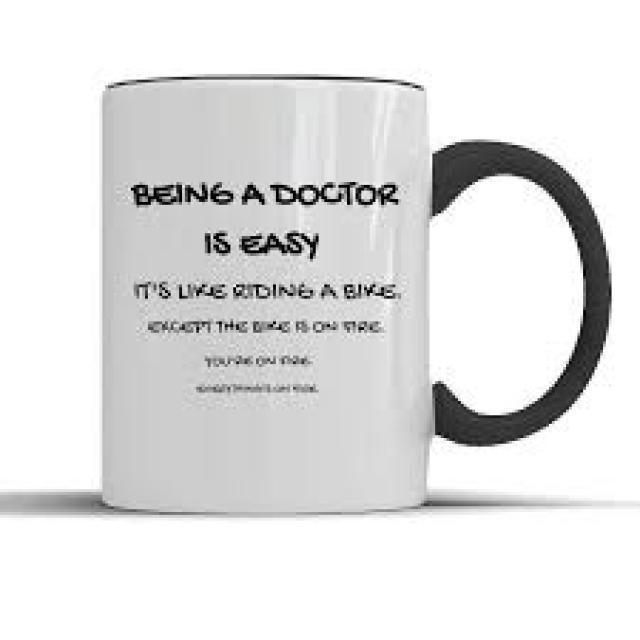taza: (77, 58, 623, 536)
